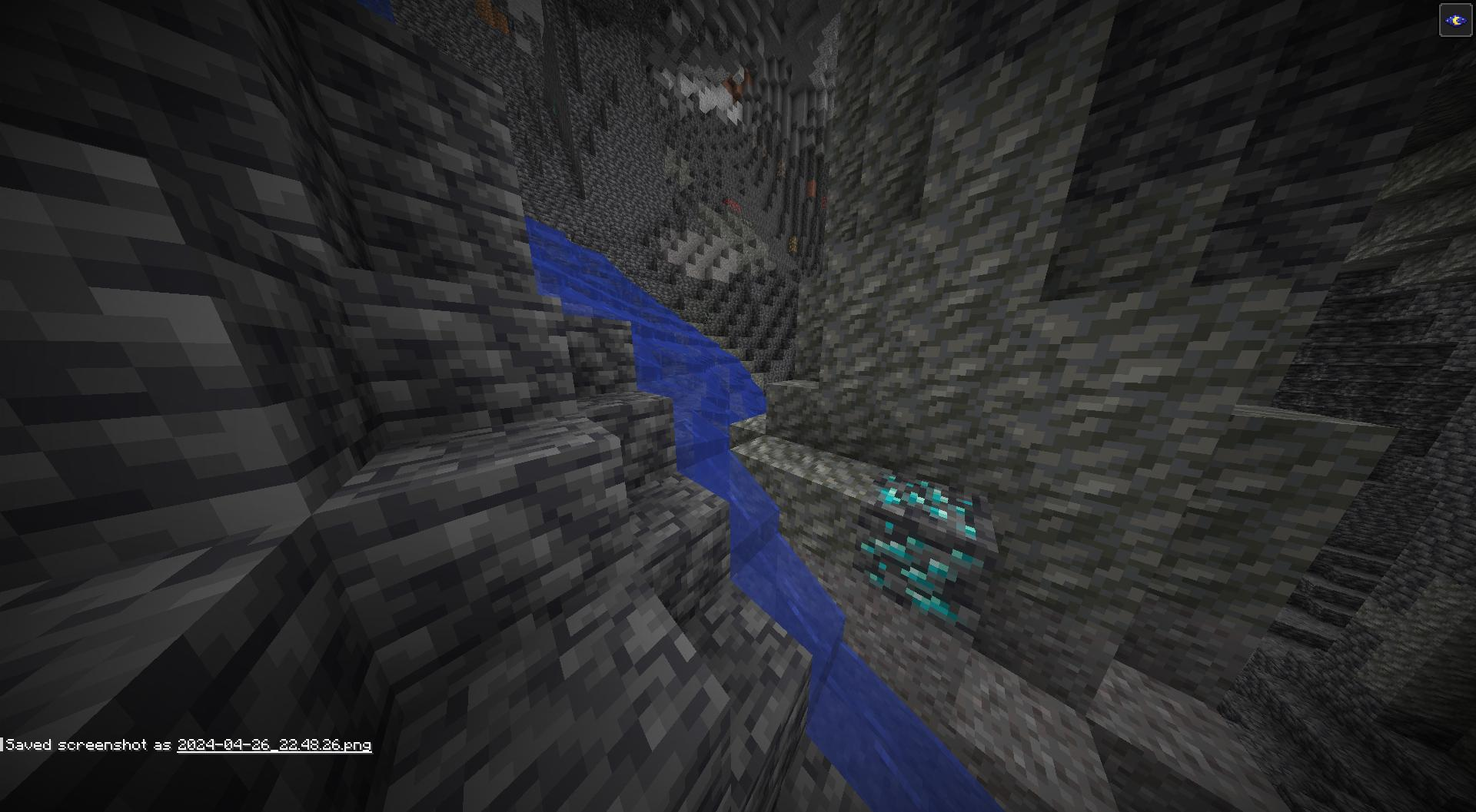diamond ore: (836, 475, 989, 620)
iron ore: (787, 232, 801, 255), (775, 159, 789, 178)
redstone ore: (723, 194, 743, 214)
